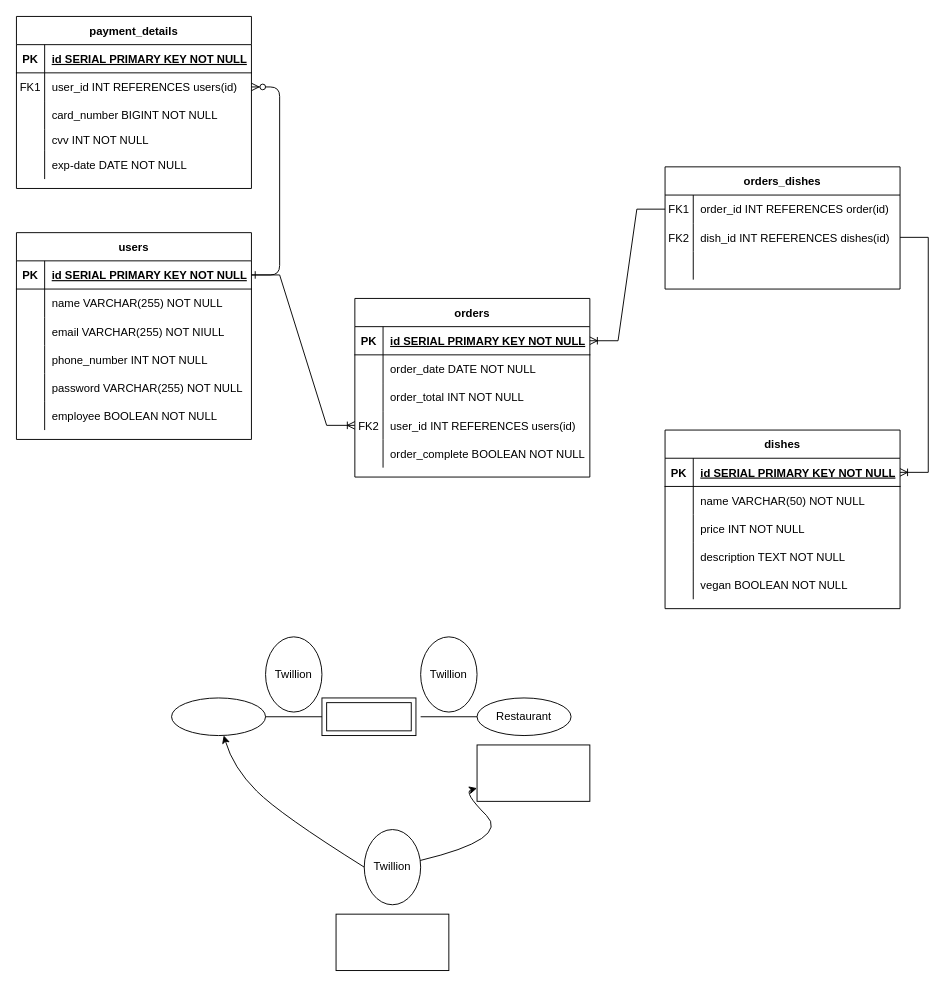
Image size: 952x987. Some labels were removed from this diagram. The shapes that lost their labels are listed below. From the top down, each one's centre as x and y in pixels, then its label:
the point at 218,716: Client
the point at 368,716: App
the point at 533,772: 1. Type 2. Order details
the point at 392,942: Your order is ready Twillio
